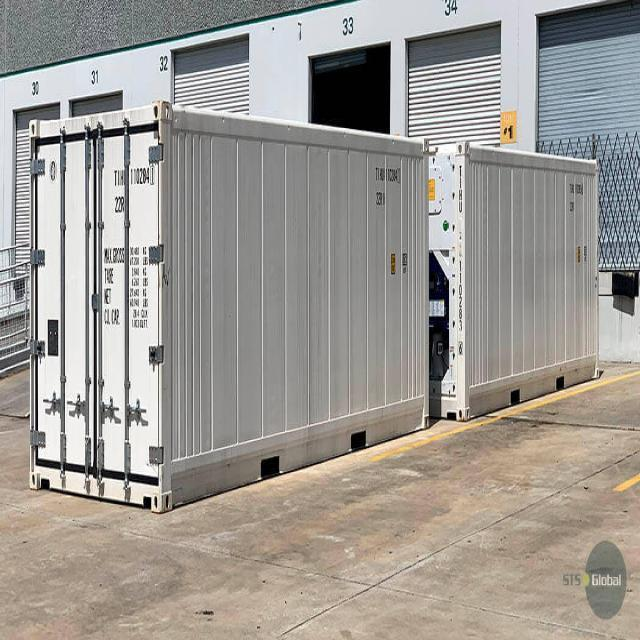container_number_h: (112, 165, 157, 217)
